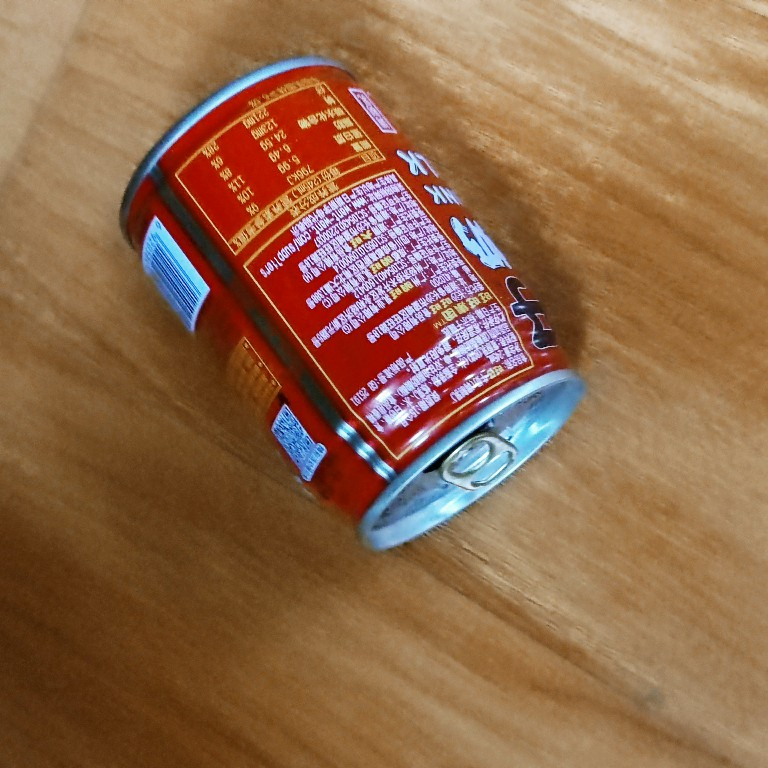can: (110, 52, 588, 553)
